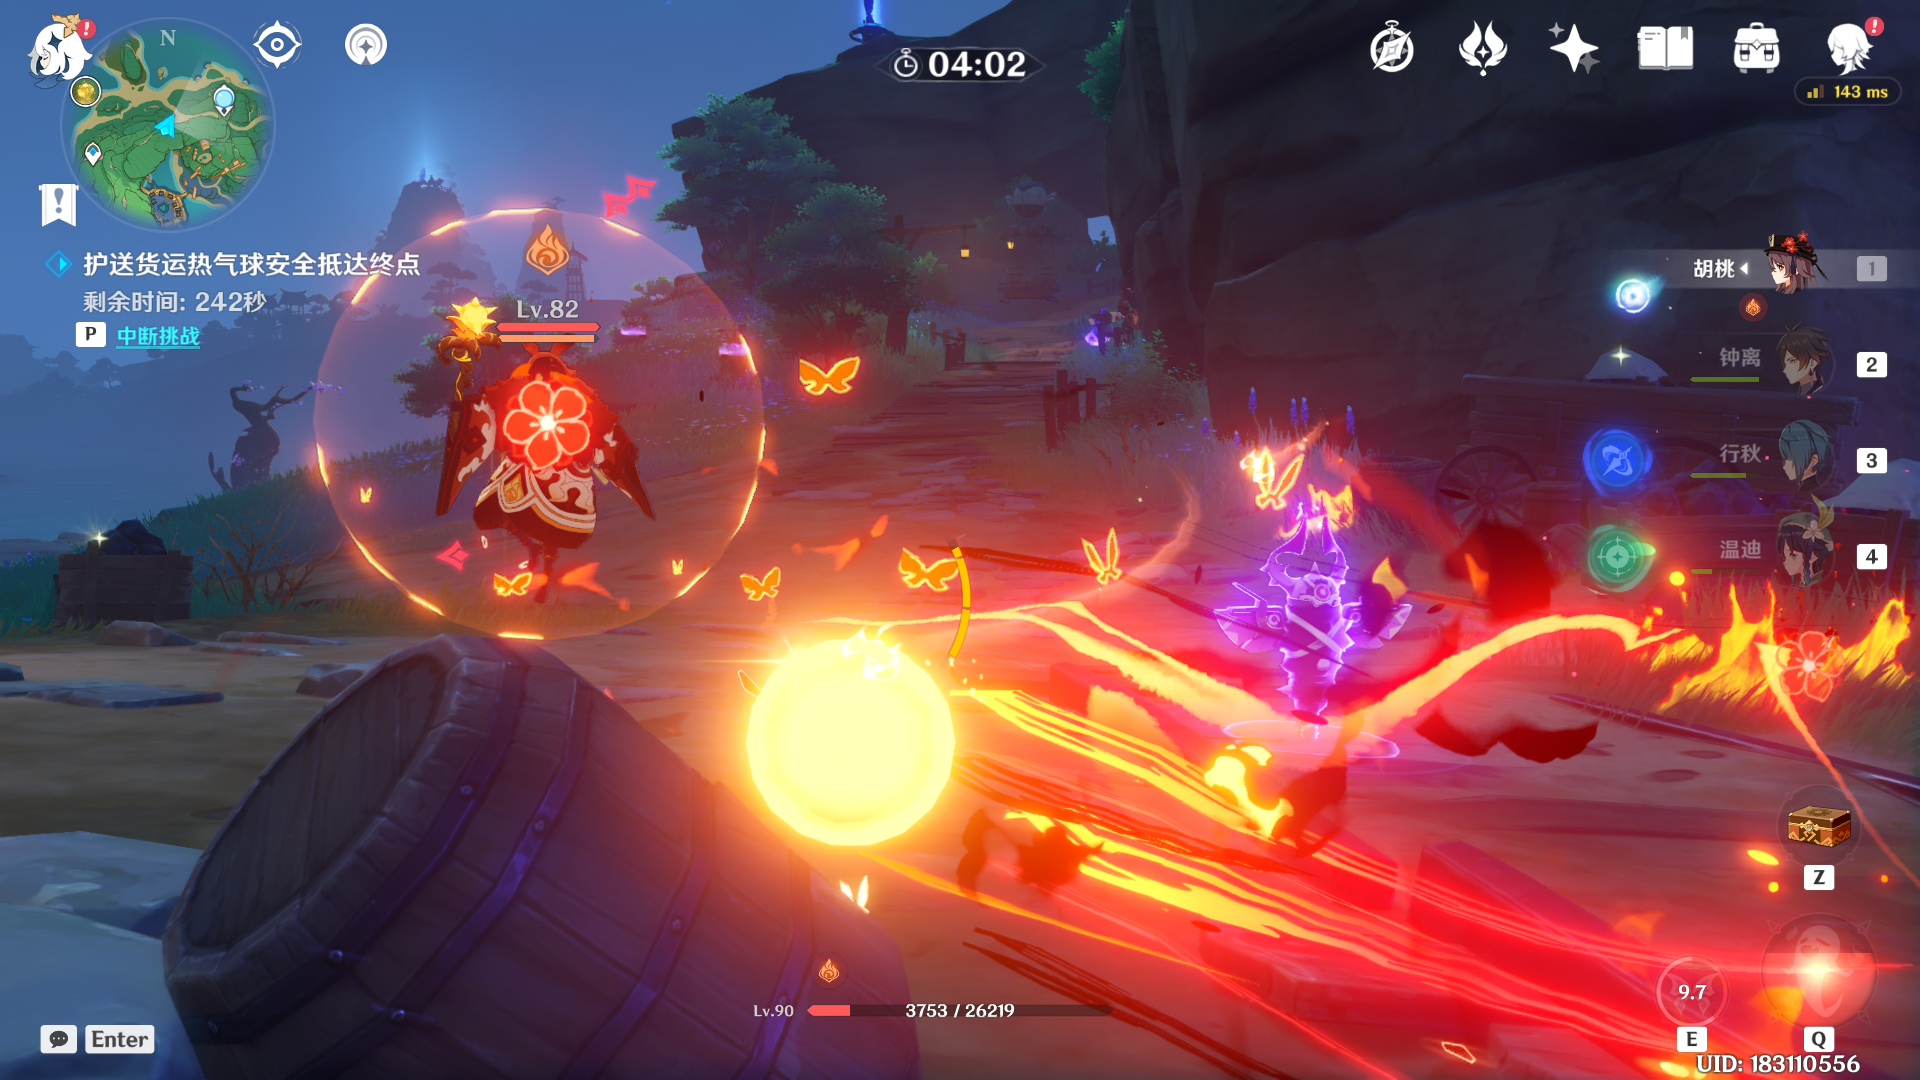caster: (422, 273, 694, 589)
